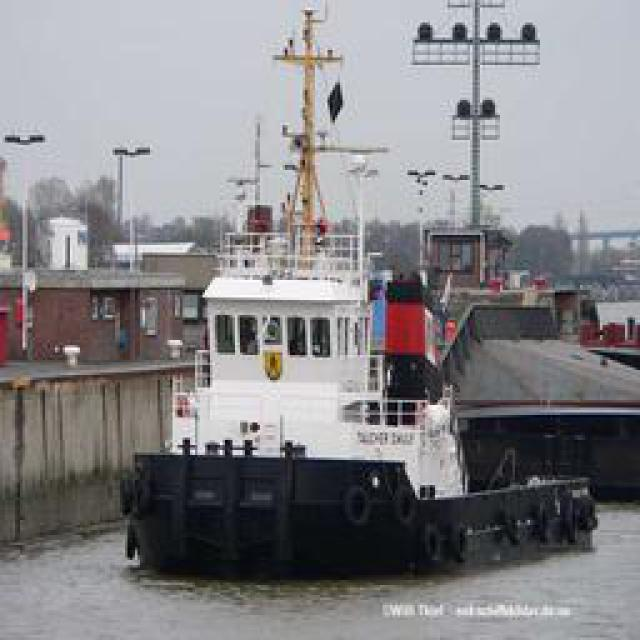Ship: (127, 1, 635, 576)
